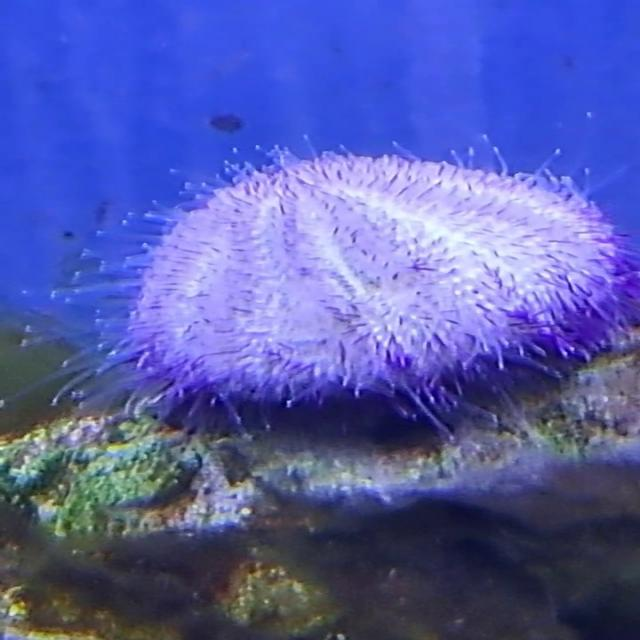Deniz Kestanesi: (78, 133, 640, 425)
